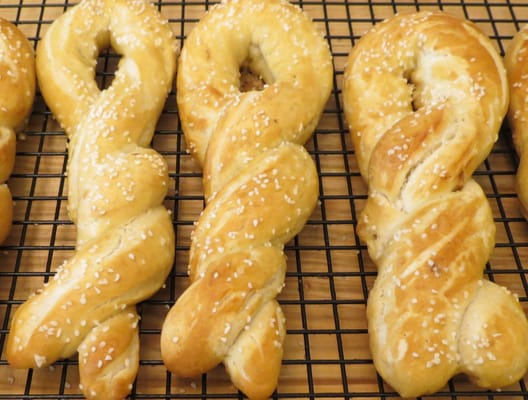salad: (341, 11, 521, 397), (35, 1, 179, 248), (176, 1, 335, 204), (3, 207, 176, 377), (34, 1, 179, 152), (187, 141, 320, 282), (505, 25, 528, 222), (0, 15, 37, 133), (0, 122, 17, 184), (0, 181, 14, 246)
